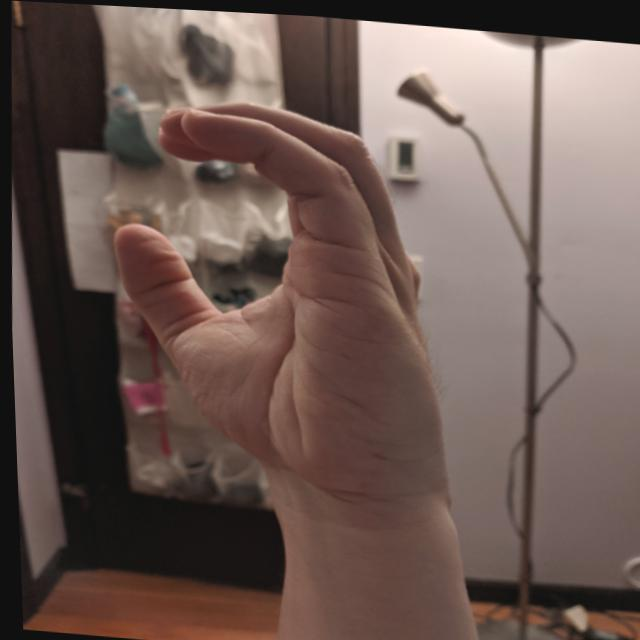C: (87, 82, 471, 524)
